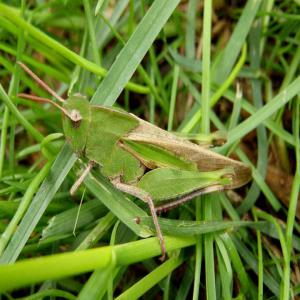locust: (22, 53, 265, 232)
